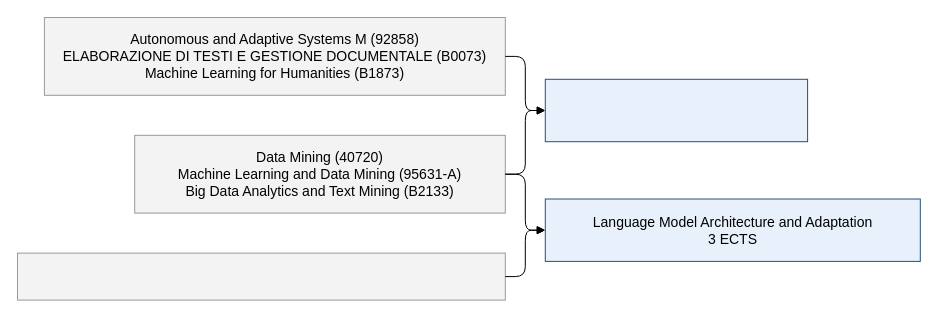
This 938x318 diagram has some shape labels left out. The shapes that lost their labels are listed below. From the top down, each one's box as (x1, y1, x2, y2) in pixels, then its label:
(544, 78, 808, 142): Language Model Applications 3 ECTS
(16, 252, 505, 300): Architecture and Platforms for Artificial Intelligence (91259)
